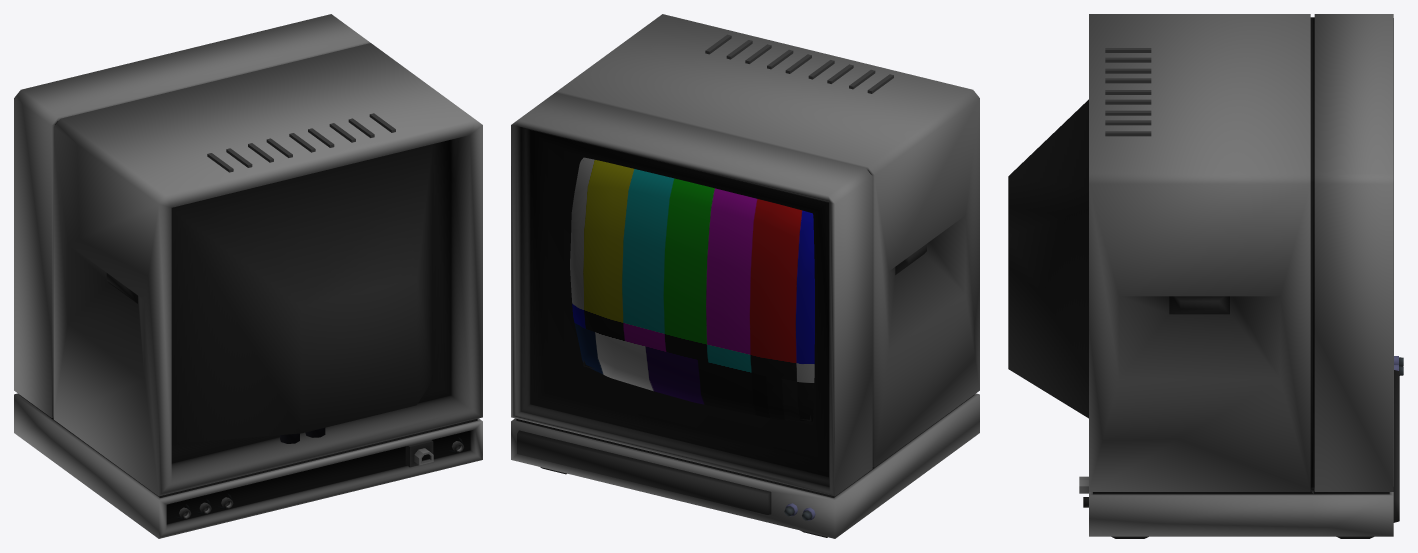
The model's file is crt1_.glb.
3 views of the same model, side by side, from view 1: azimuth 30°, elevation 25°; view 2: azimuth 150°, elevation 25°; view 3: azimuth 270°, elevation 25° (orthographic). The views are drawn at different scales.
Parts seen in each view (by area): view 1: Cube.051, Cube.003, Cube.004, Cube.002; view 2: Cube.051, Cube.005, Cube.004, Cube.003, Cube.002; view 3: Cube.051, Cube.003, Cube.004.
Boxes of the visible parts, bbox=[...] form: Cube.051: bbox=[14, 14, 482, 538]; Cube.003: bbox=[55, 113, 470, 523]; Cube.004: bbox=[19, 394, 477, 516]; Cube.002: bbox=[179, 441, 464, 519]; Cube.051: bbox=[511, 14, 979, 538]; Cube.005: bbox=[570, 157, 814, 421]; Cube.004: bbox=[516, 130, 974, 537]; Cube.003: bbox=[517, 34, 926, 514]; Cube.002: bbox=[521, 127, 829, 486]; Cube.051: bbox=[1089, 14, 1393, 536]; Cube.003: bbox=[1008, 17, 1399, 522]; Cube.004: bbox=[1093, 490, 1389, 538].
Bounding box in the file's own units: 3.93 × 4.13 × 3.94.
7 materials, 1 textured.
